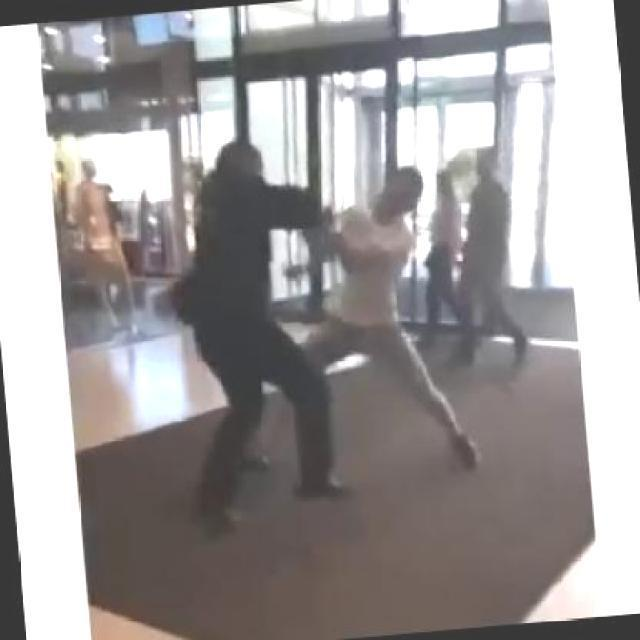fight: (168, 123, 470, 506)
